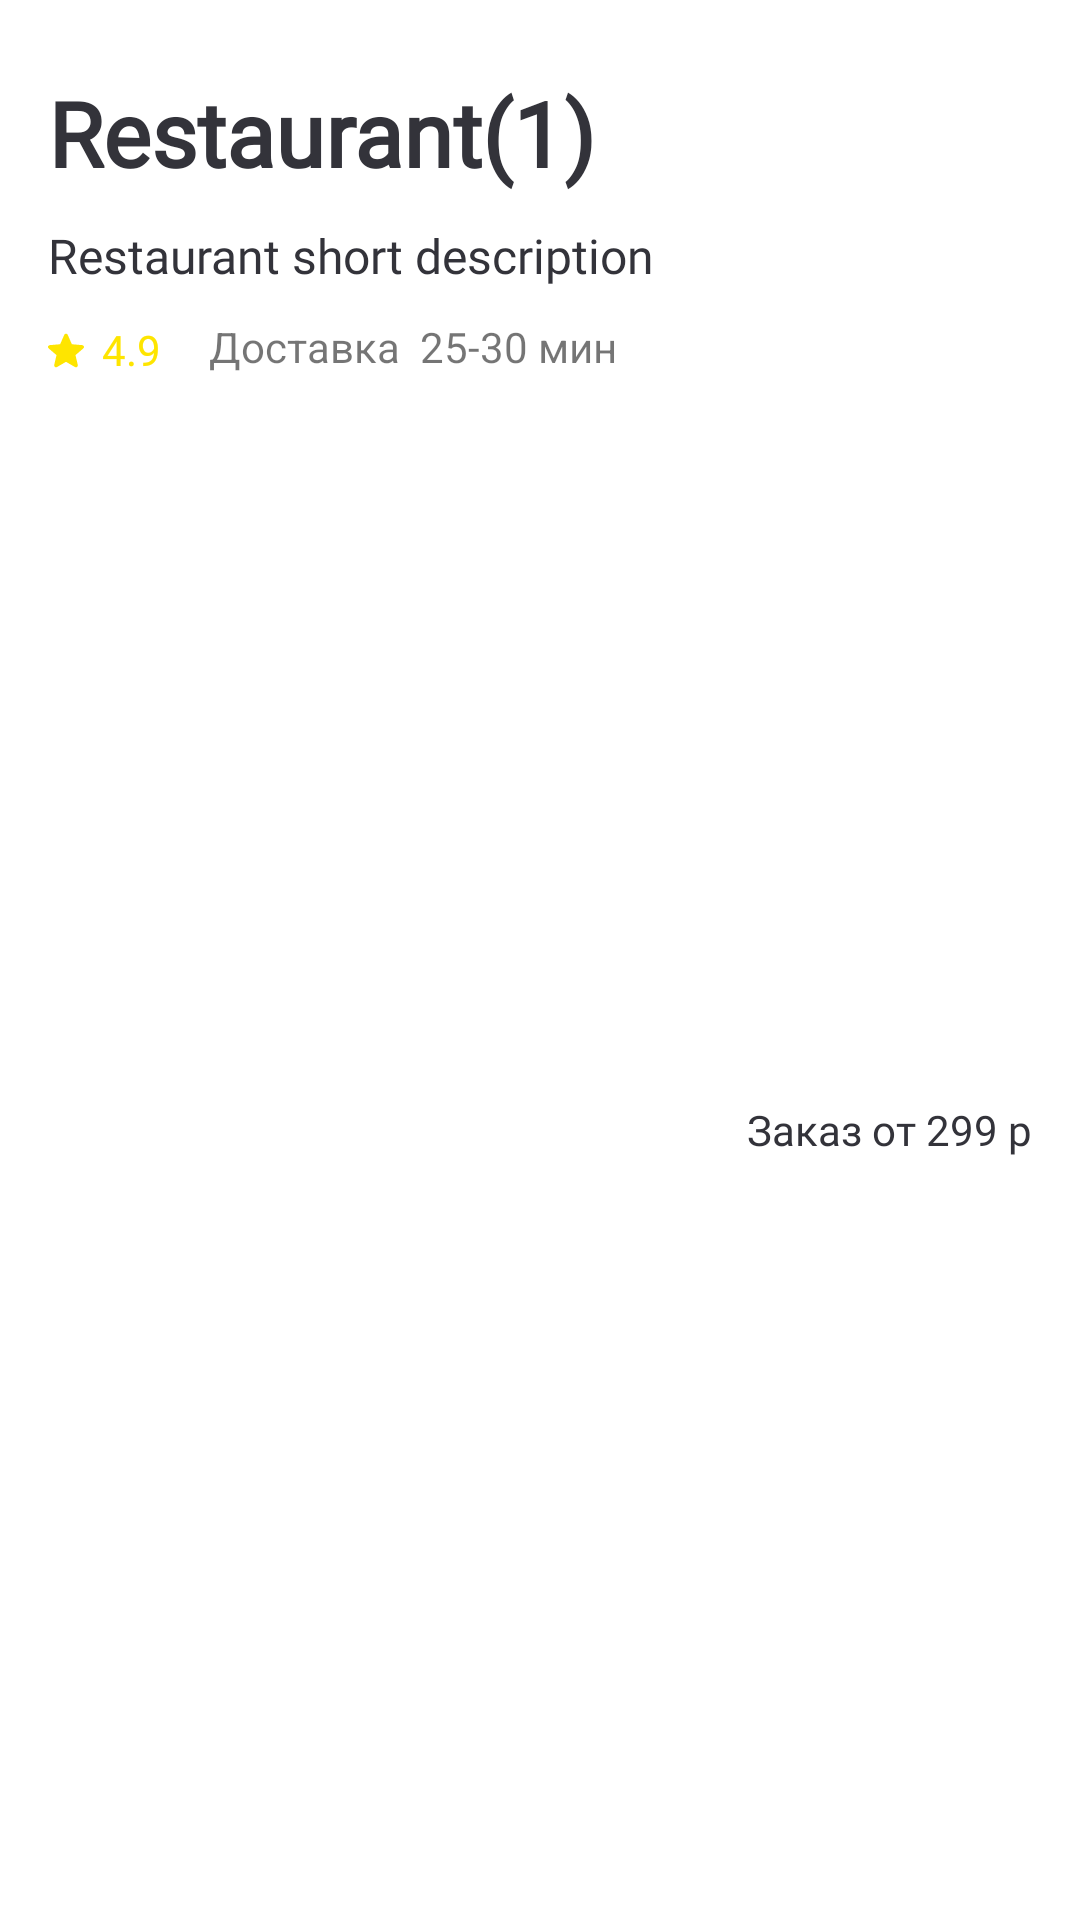

Icon bounding boxes for this 1080px x 1920px phone screenshot, format [left=x1, top=y1, right=x2, bottom=y2]:
star: [left=48, top=333, right=84, bottom=368]
